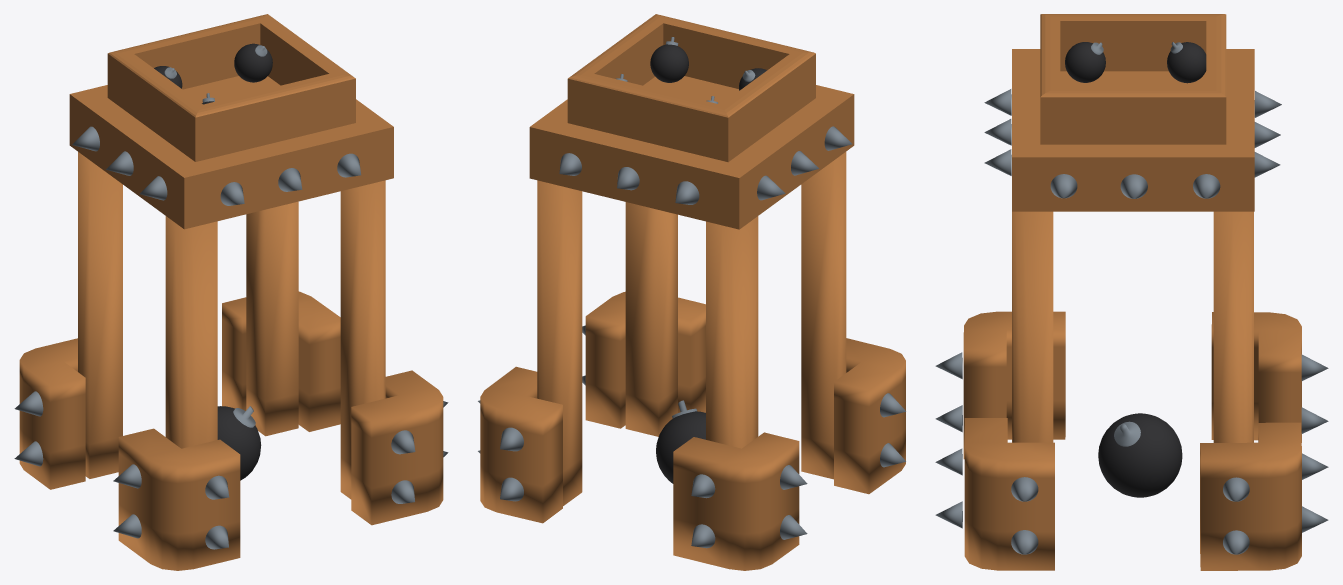
The model's file is TorreBombardera.fbx.
The picture shows the model from 3 angles, left to right: view 1: azimuth 30°, elevation 25°; view 2: azimuth 150°, elevation 25°; view 3: azimuth 270°, elevation 25°; orthographic projection. The views are drawn at different scales.
Parts seen in each view (by area): view 1: Cube.004; view 2: Cube.004; view 3: Cube.004.
Part boxes in pixels (x1,y1,x2,y2): Cube.004: (14, 14, 448, 570); Cube.004: (478, 14, 905, 570); Cube.004: (935, 14, 1328, 570).
Bounding box in the file's own units: 194 × 234 × 188.
